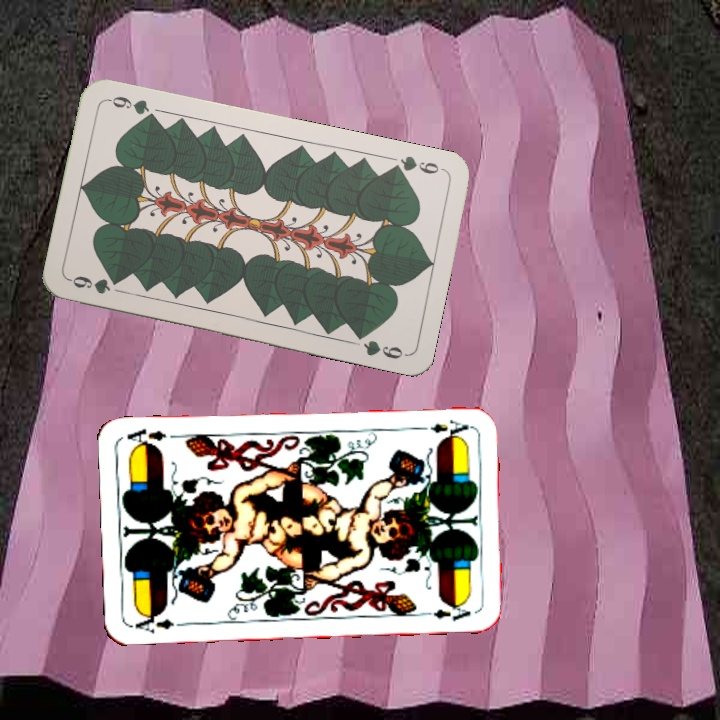EA: (129, 608, 188, 636), (426, 415, 471, 440)
G9: (386, 151, 447, 177), (66, 271, 113, 297)
